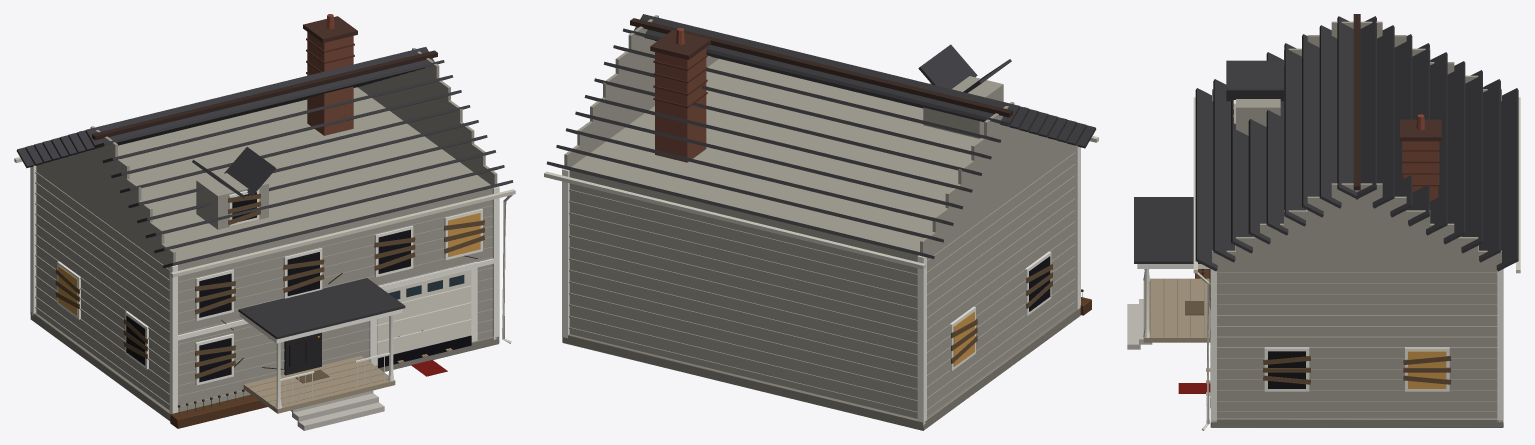
The model's file is suburb_house_dark.glb.
The picture shows the model from 3 angles, left to right: view 1: azimuth 30°, elevation 25°; view 2: azimuth 150°, elevation 25°; view 3: azimuth 270°, elevation 25°; orthographic projection. The views are drawn at different scales.
Parts seen in each view (by area): view 1: suburb_house_dark; view 2: suburb_house_dark; view 3: suburb_house_dark.
Boxes of the visible parts, x1=… form: suburb_house_dark: x1=14, y1=14, x2=515, y2=430; suburb_house_dark: x1=544, y1=14, x2=1098, y2=430; suburb_house_dark: x1=1127, y1=14, x2=1520, y2=430.
Size of the model in its own units: 12.83 by 9.65 by 12.34.
